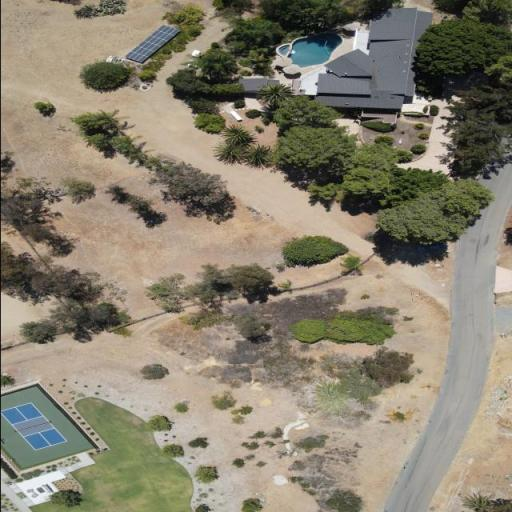solar-panel: (123, 24, 180, 63)
